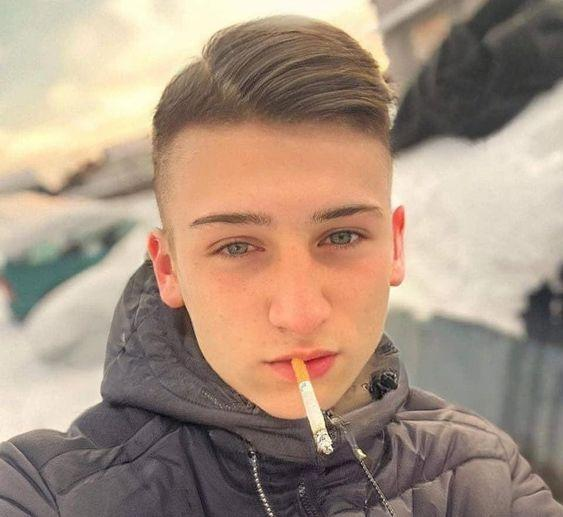cigarette: (291, 357, 333, 455)
